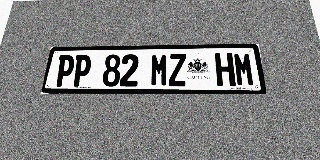2: (120, 54, 139, 86)
8: (102, 54, 122, 87)
H: (215, 53, 236, 86)
M: (233, 53, 255, 86), (150, 54, 168, 86)
P: (54, 55, 76, 87), (71, 55, 92, 87)
Z: (169, 53, 187, 86)
